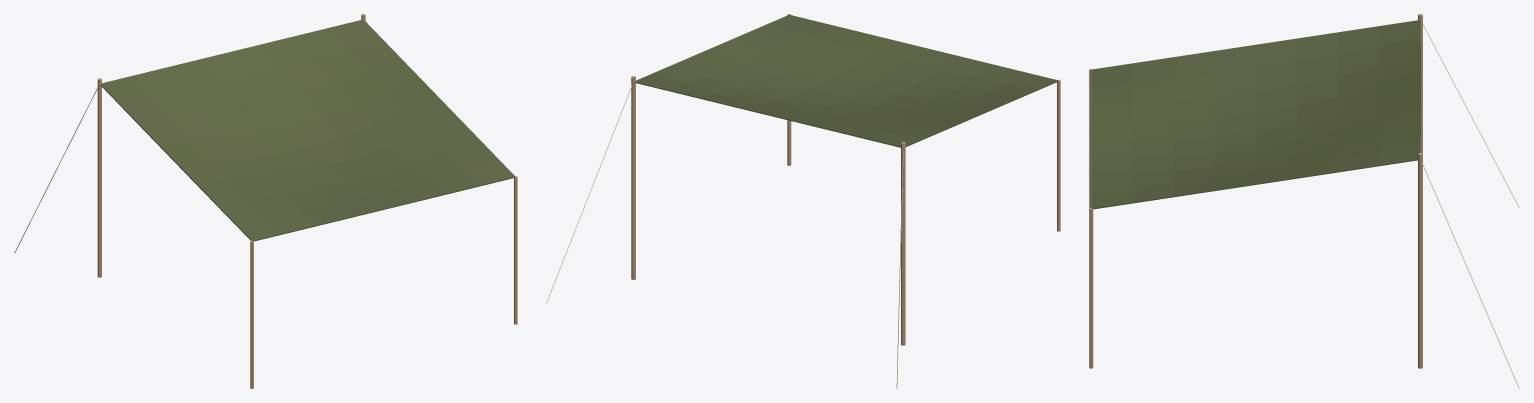
Rendered from tarp_awning_custom.glb.
3 views of the same model, side by side, from view 1: azimuth 30°, elevation 25°; view 2: azimuth 150°, elevation 25°; view 3: azimuth 270°, elevation 25° (orthographic). The views are drawn at different scales.
Parts seen in each view (by area): view 1: body; view 2: body; view 3: body.
Boxes of the visible parts, left/top/right/bottom form: body: left=14, top=14, right=517, bottom=388; body: left=546, top=14, right=1060, bottom=388; body: left=1089, top=14, right=1519, bottom=388.
Size of the model in its own units: 3.9 by 2.15 by 3.92.
